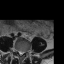CCS_stenosis: (20, 49, 21, 58)
LFS_stenosis: (24, 49, 26, 54)
LLS_stenosis: (21, 50, 23, 55)
RFS_stenosis: (16, 48, 18, 53)
RLS_normal: (18, 49, 20, 55)
